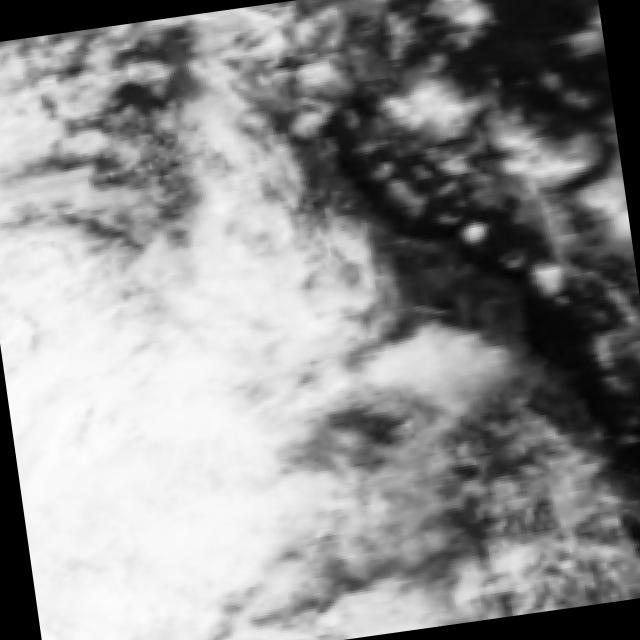CB: (0, 305, 201, 640)
